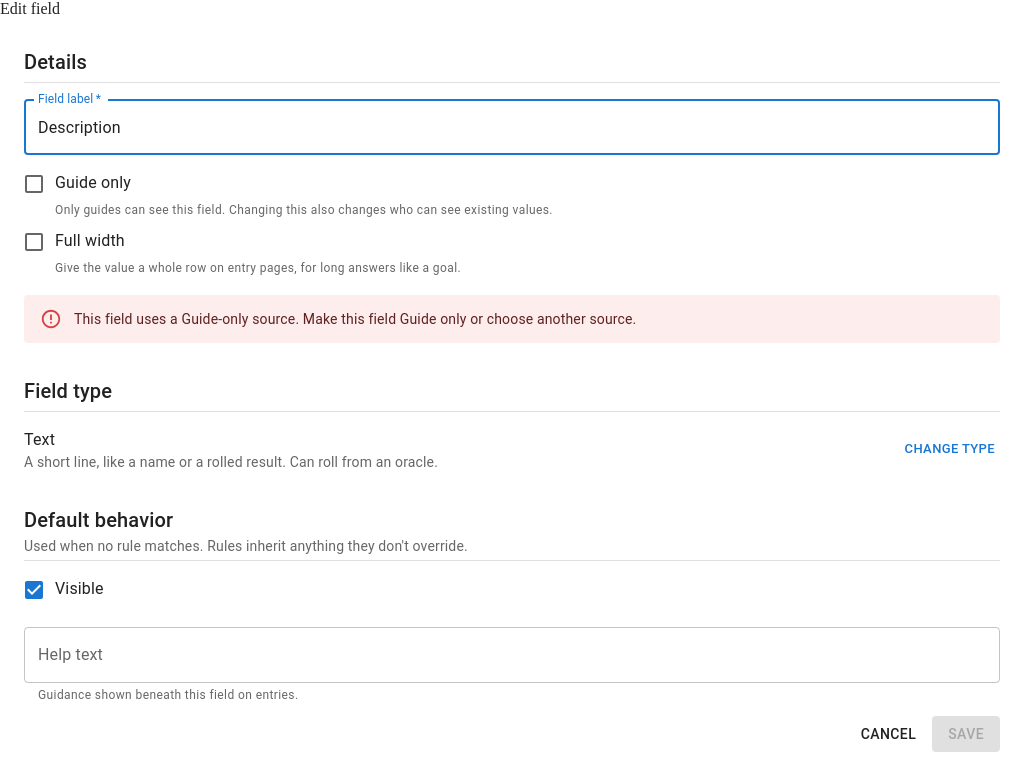
Test case: WorldFieldEditor › requires Guide visibility for rules that read a Guide-only source
expect the button "Save" is disabled: met, box [932,716,1000,752]
expect the message shows "Guide-only source": met, box [74,311,636,327]
Click the checkbox labelled "Guide only" at {"x": 72, "y": 188}, box [13,171,131,205]
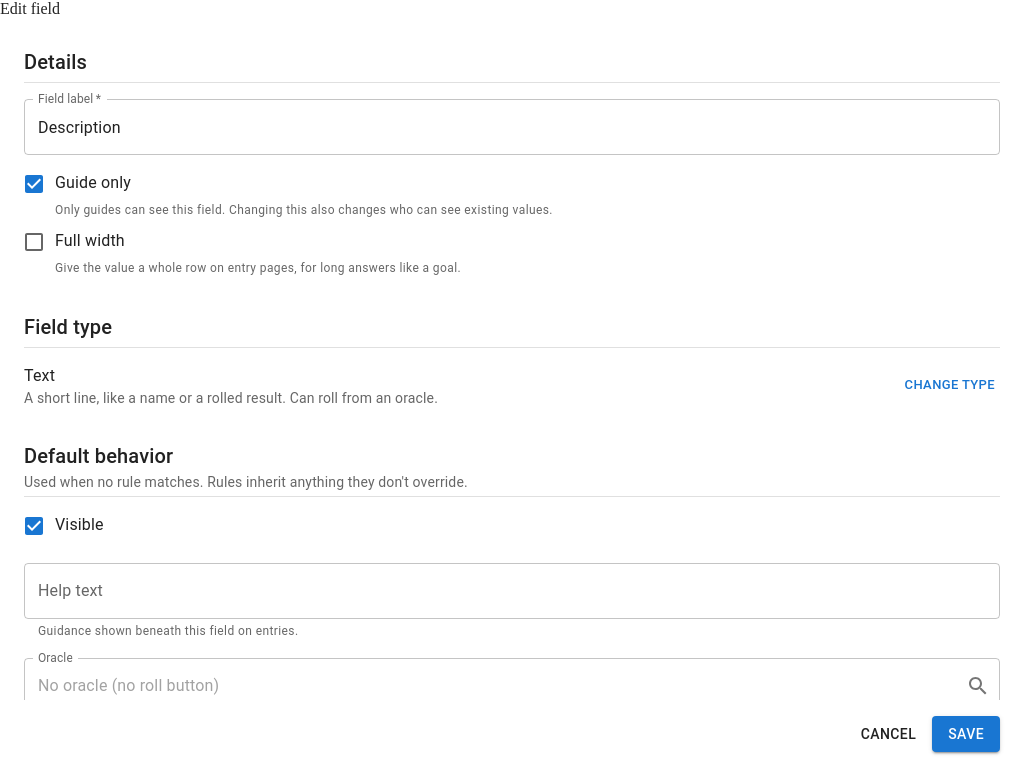
expect the button "Save" is enabled: met, box [932,716,1000,752]
